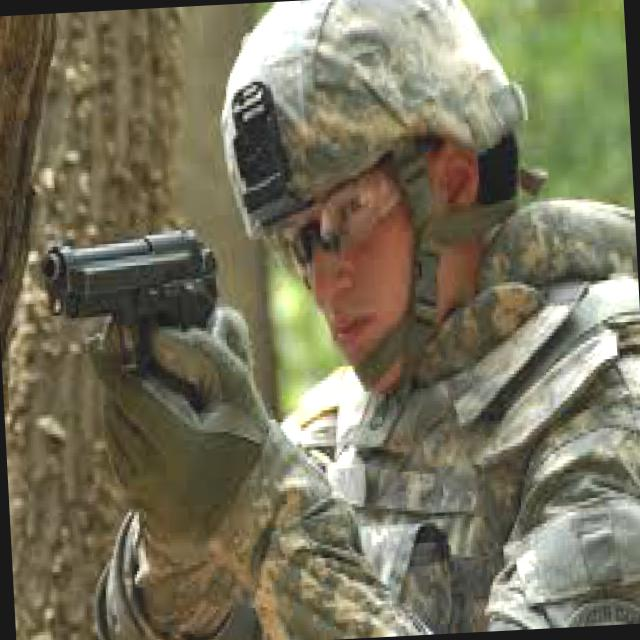handgun: (34, 199, 222, 418)
